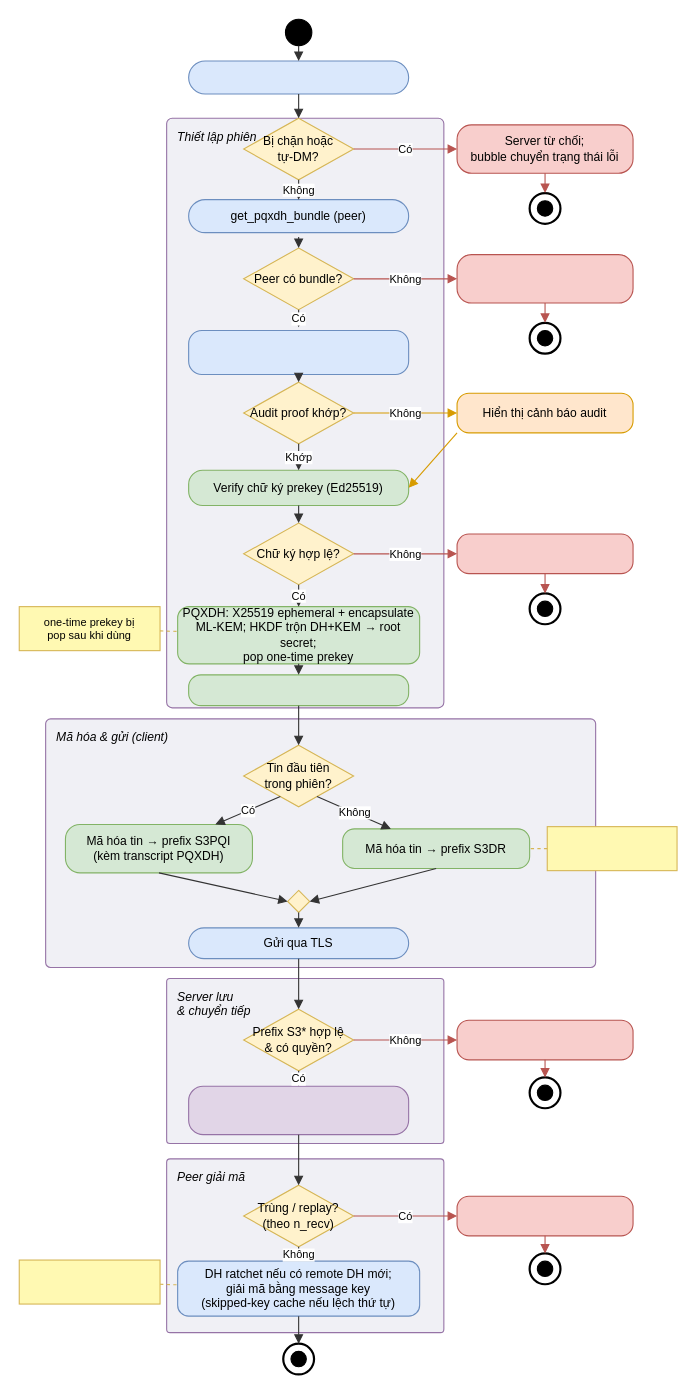
Some shapes in this 696 by 1395 pixel diagram are drawn without their labels. The shapes that lost their labels are listed below. From the top down, each one's centre as x and y in pixels, then its label:
(298,77): start_dm
(544,278): Báo lỗi rõ; KHÔNG gửi plaintext
(298,352): Hỏi auditor lấy Merkle proof cho identity_version
(544,553): Từ chối: prekey bị thay
(298,690): Khởi tạo Double Ratchet
(611,848): Ratchet liên tục dùng X25519 (PQ từ PQXDH)
(544,1039): Server trả lỗi, không lưu
(298,1110): Lưu ciphertext (bảng messages) rồi broadcast cho peer online
(544,1215): Bỏ qua (đã nhận)
(89,1281): skipped-key cache tối đa 1000 khóa
